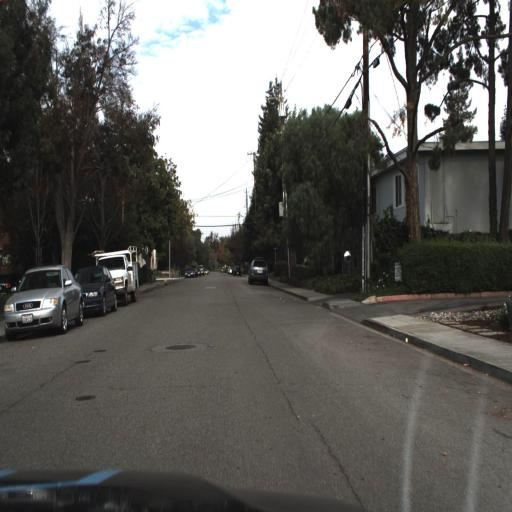car: (3, 266, 83, 344), (96, 241, 142, 308), (76, 259, 119, 319), (245, 253, 270, 286)
